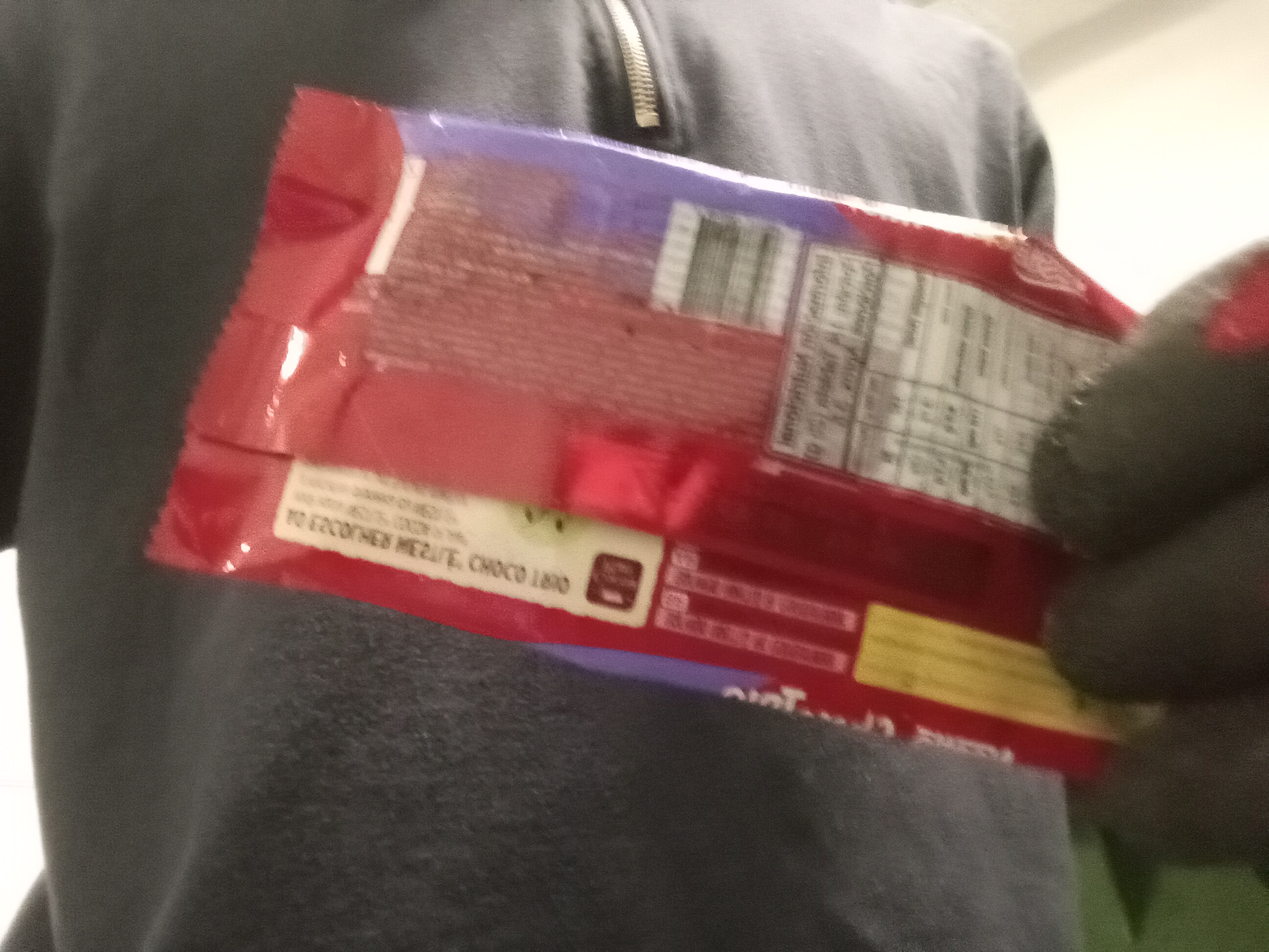Ordinario: (153, 88, 1111, 778)
